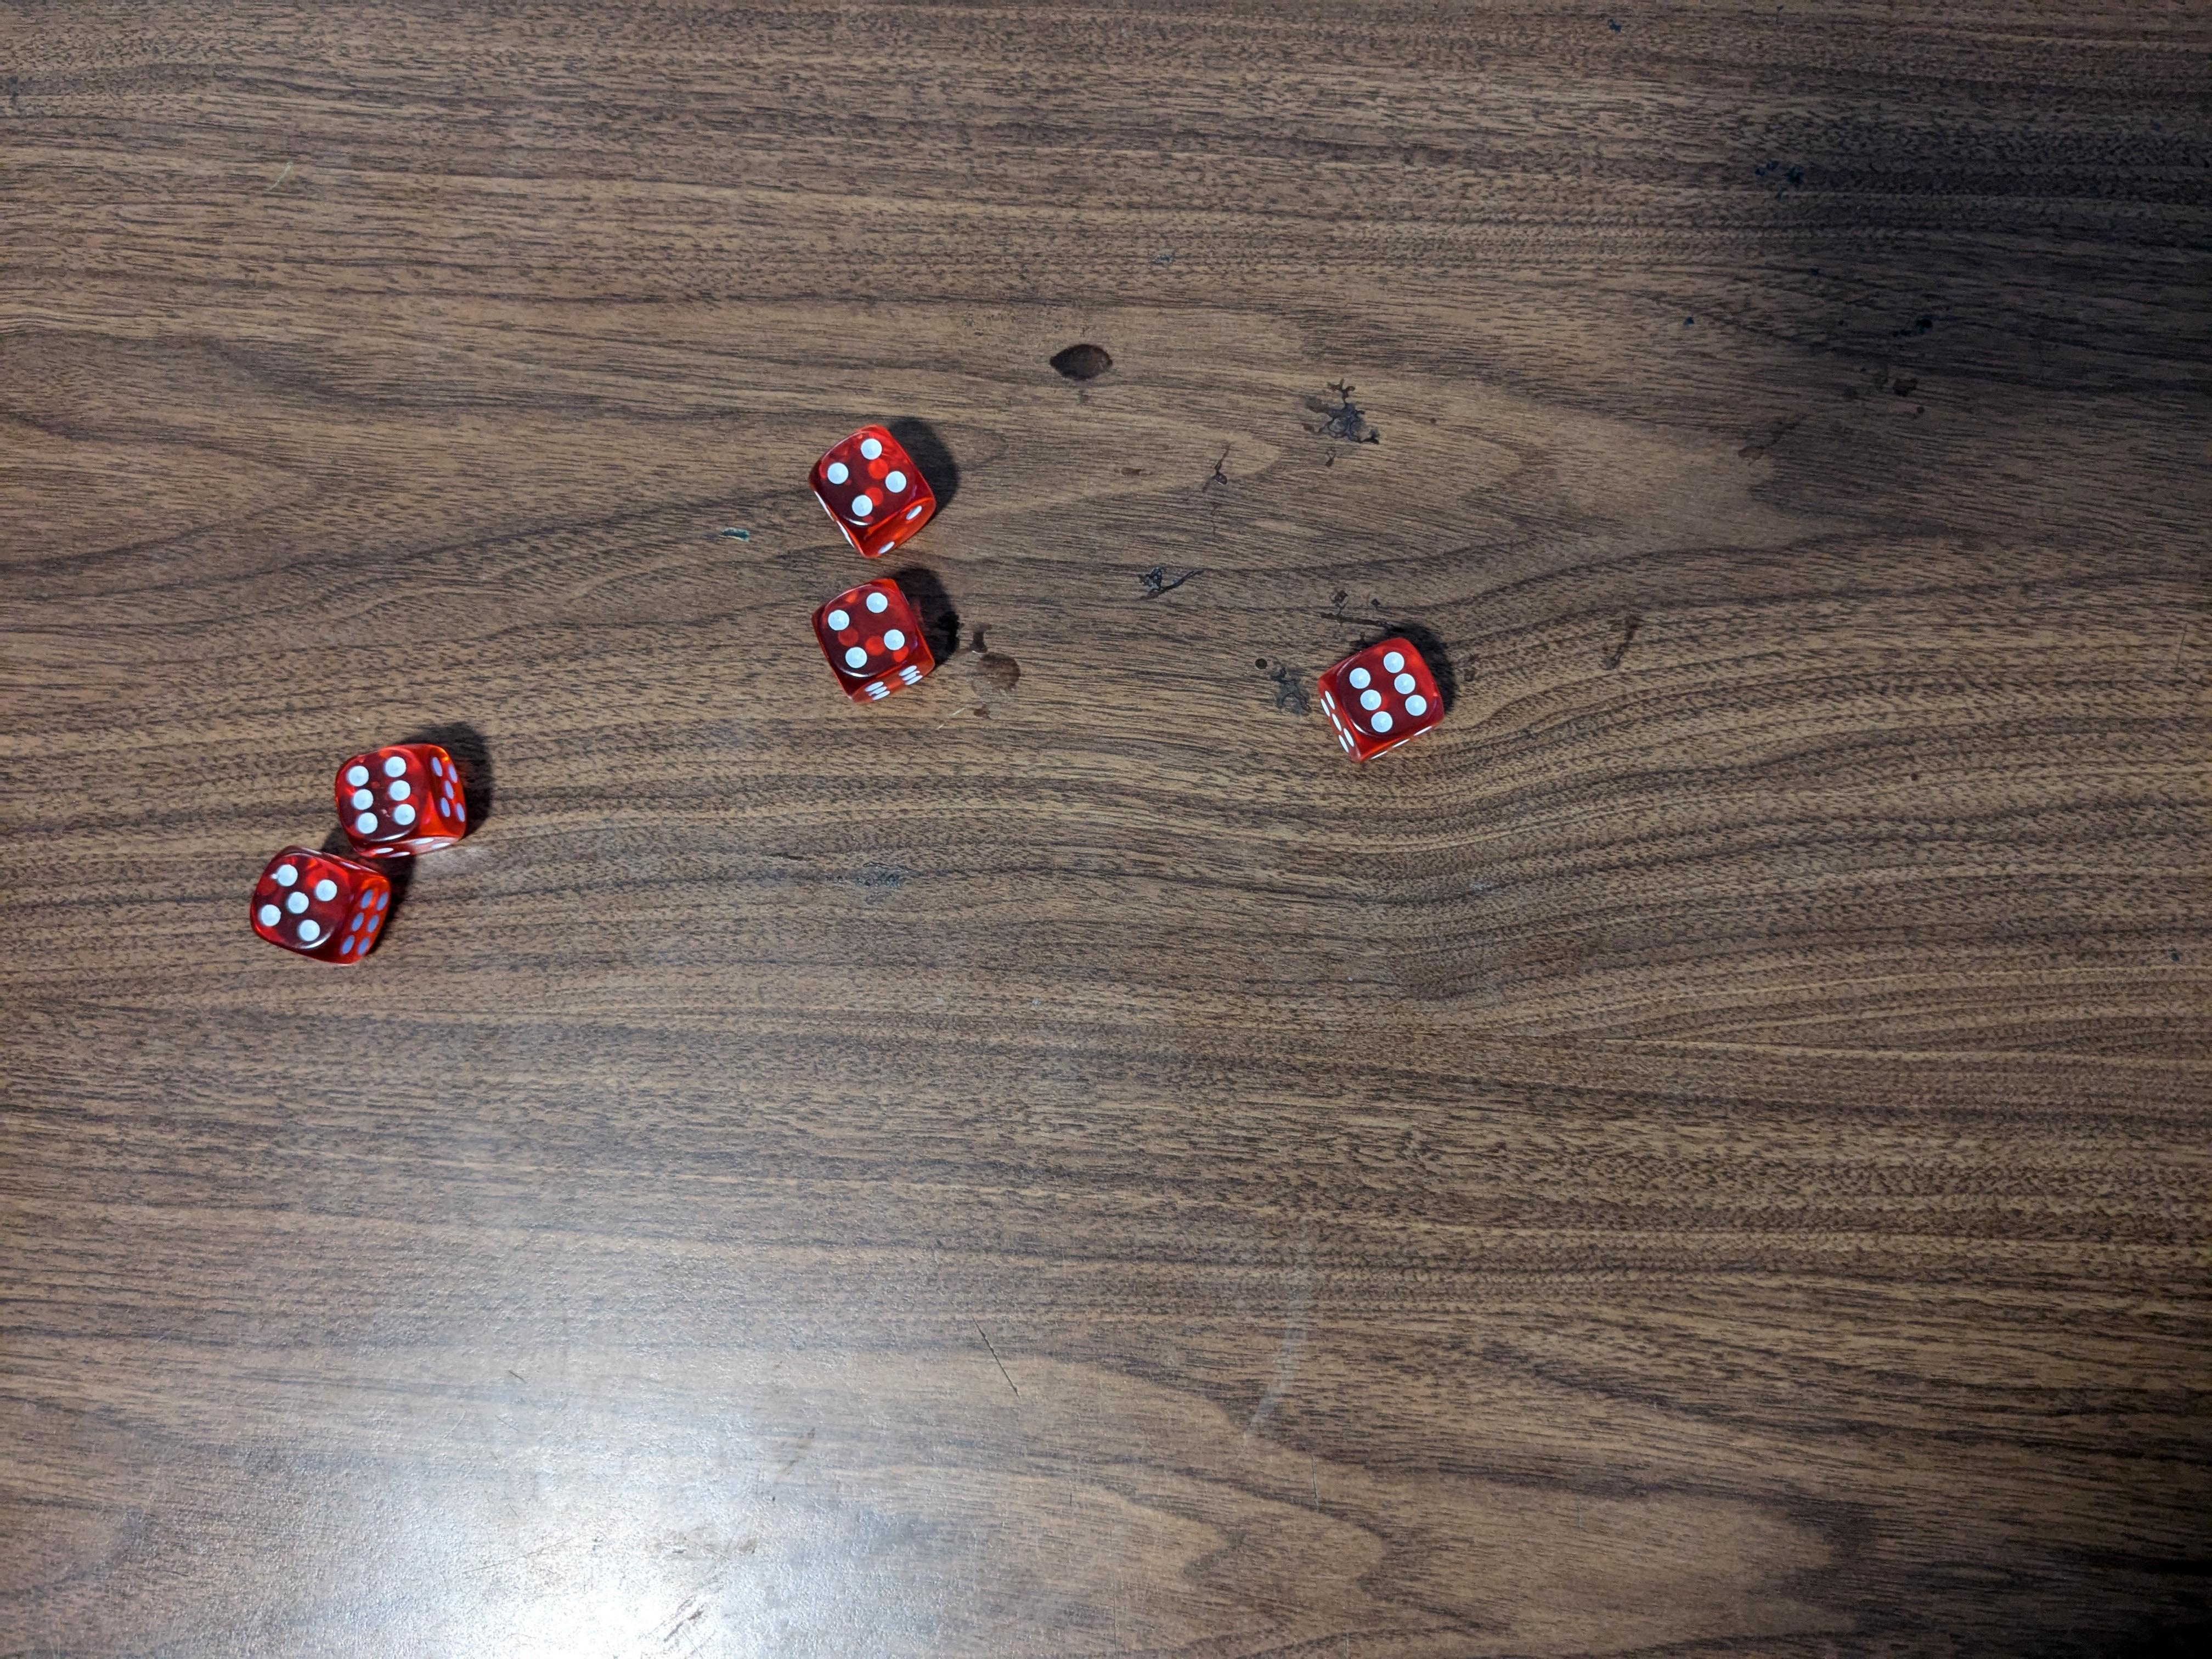five: (244, 843, 390, 974)
four: (803, 570, 942, 708), (805, 420, 944, 552)
six: (326, 735, 472, 864), (1318, 627, 1446, 760)
